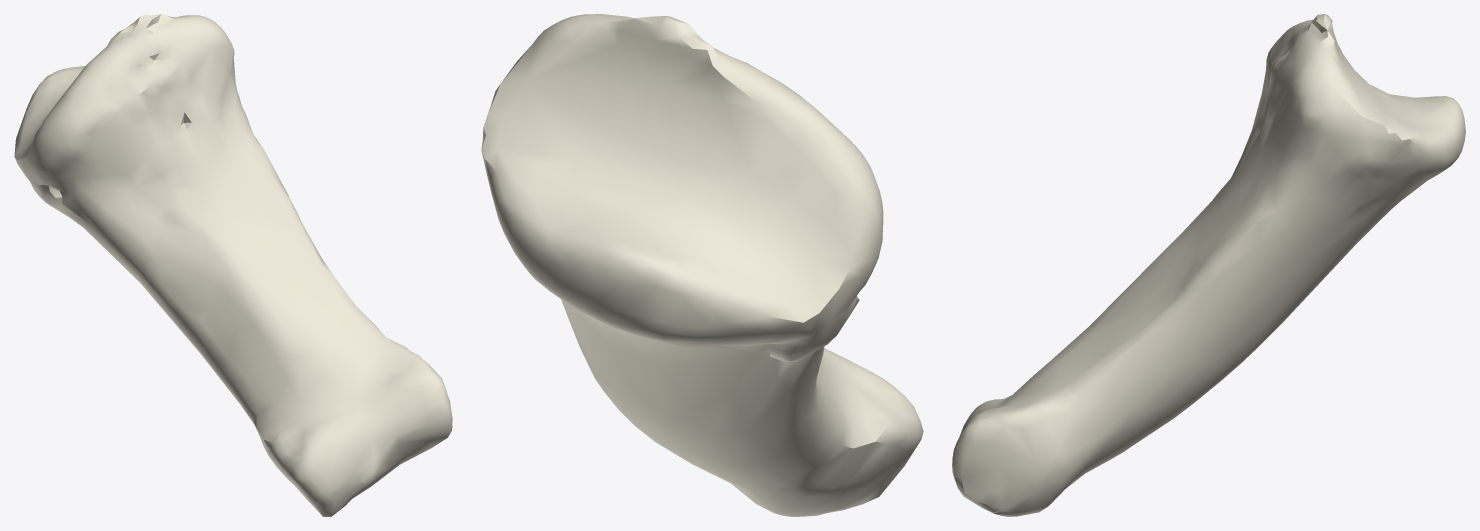
File: fma23938_mm1907m.glb
The picture shows the model from 3 angles, left to right: view 1: azimuth 30°, elevation 25°; view 2: azimuth 150°, elevation 25°; view 3: azimuth 270°, elevation 25°; orthographic projection. The views are drawn at different scales.
Visible parts, largest first — view 1: FMA23938_MM1907M; view 2: FMA23938_MM1907M; view 3: FMA23938_MM1907M.
Boxes of the visible parts, x1,y1,x2,y2 form: FMA23938_MM1907M: (14, 14, 452, 516); FMA23938_MM1907M: (481, 14, 923, 516); FMA23938_MM1907M: (952, 14, 1465, 516).
Bounding box in the file's own units: 0.0147 × 0.0207 × 0.0209.
